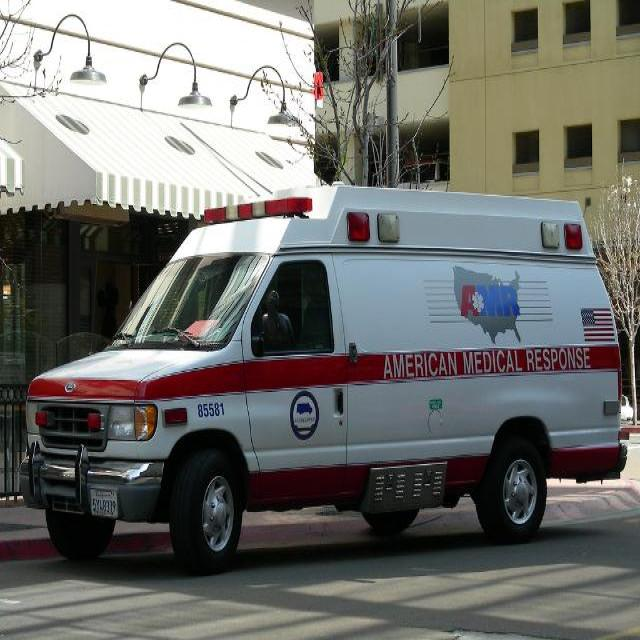emergency-vehicle: (16, 184, 630, 568)
